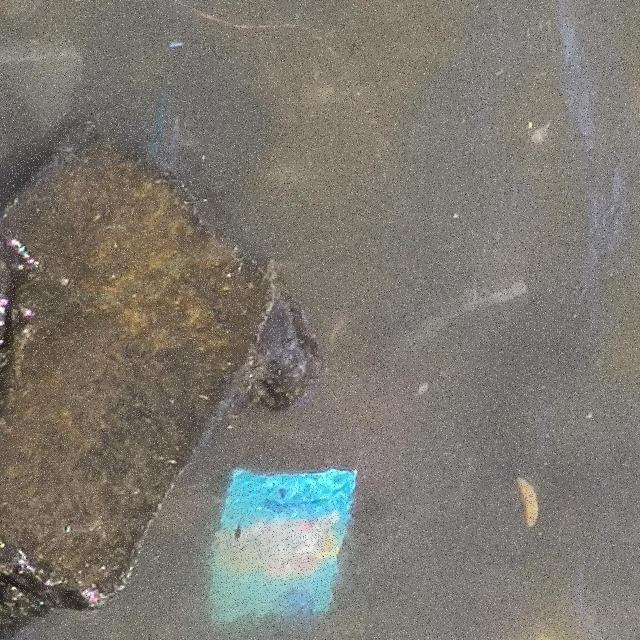plastic_waste: (206, 468, 362, 627)
